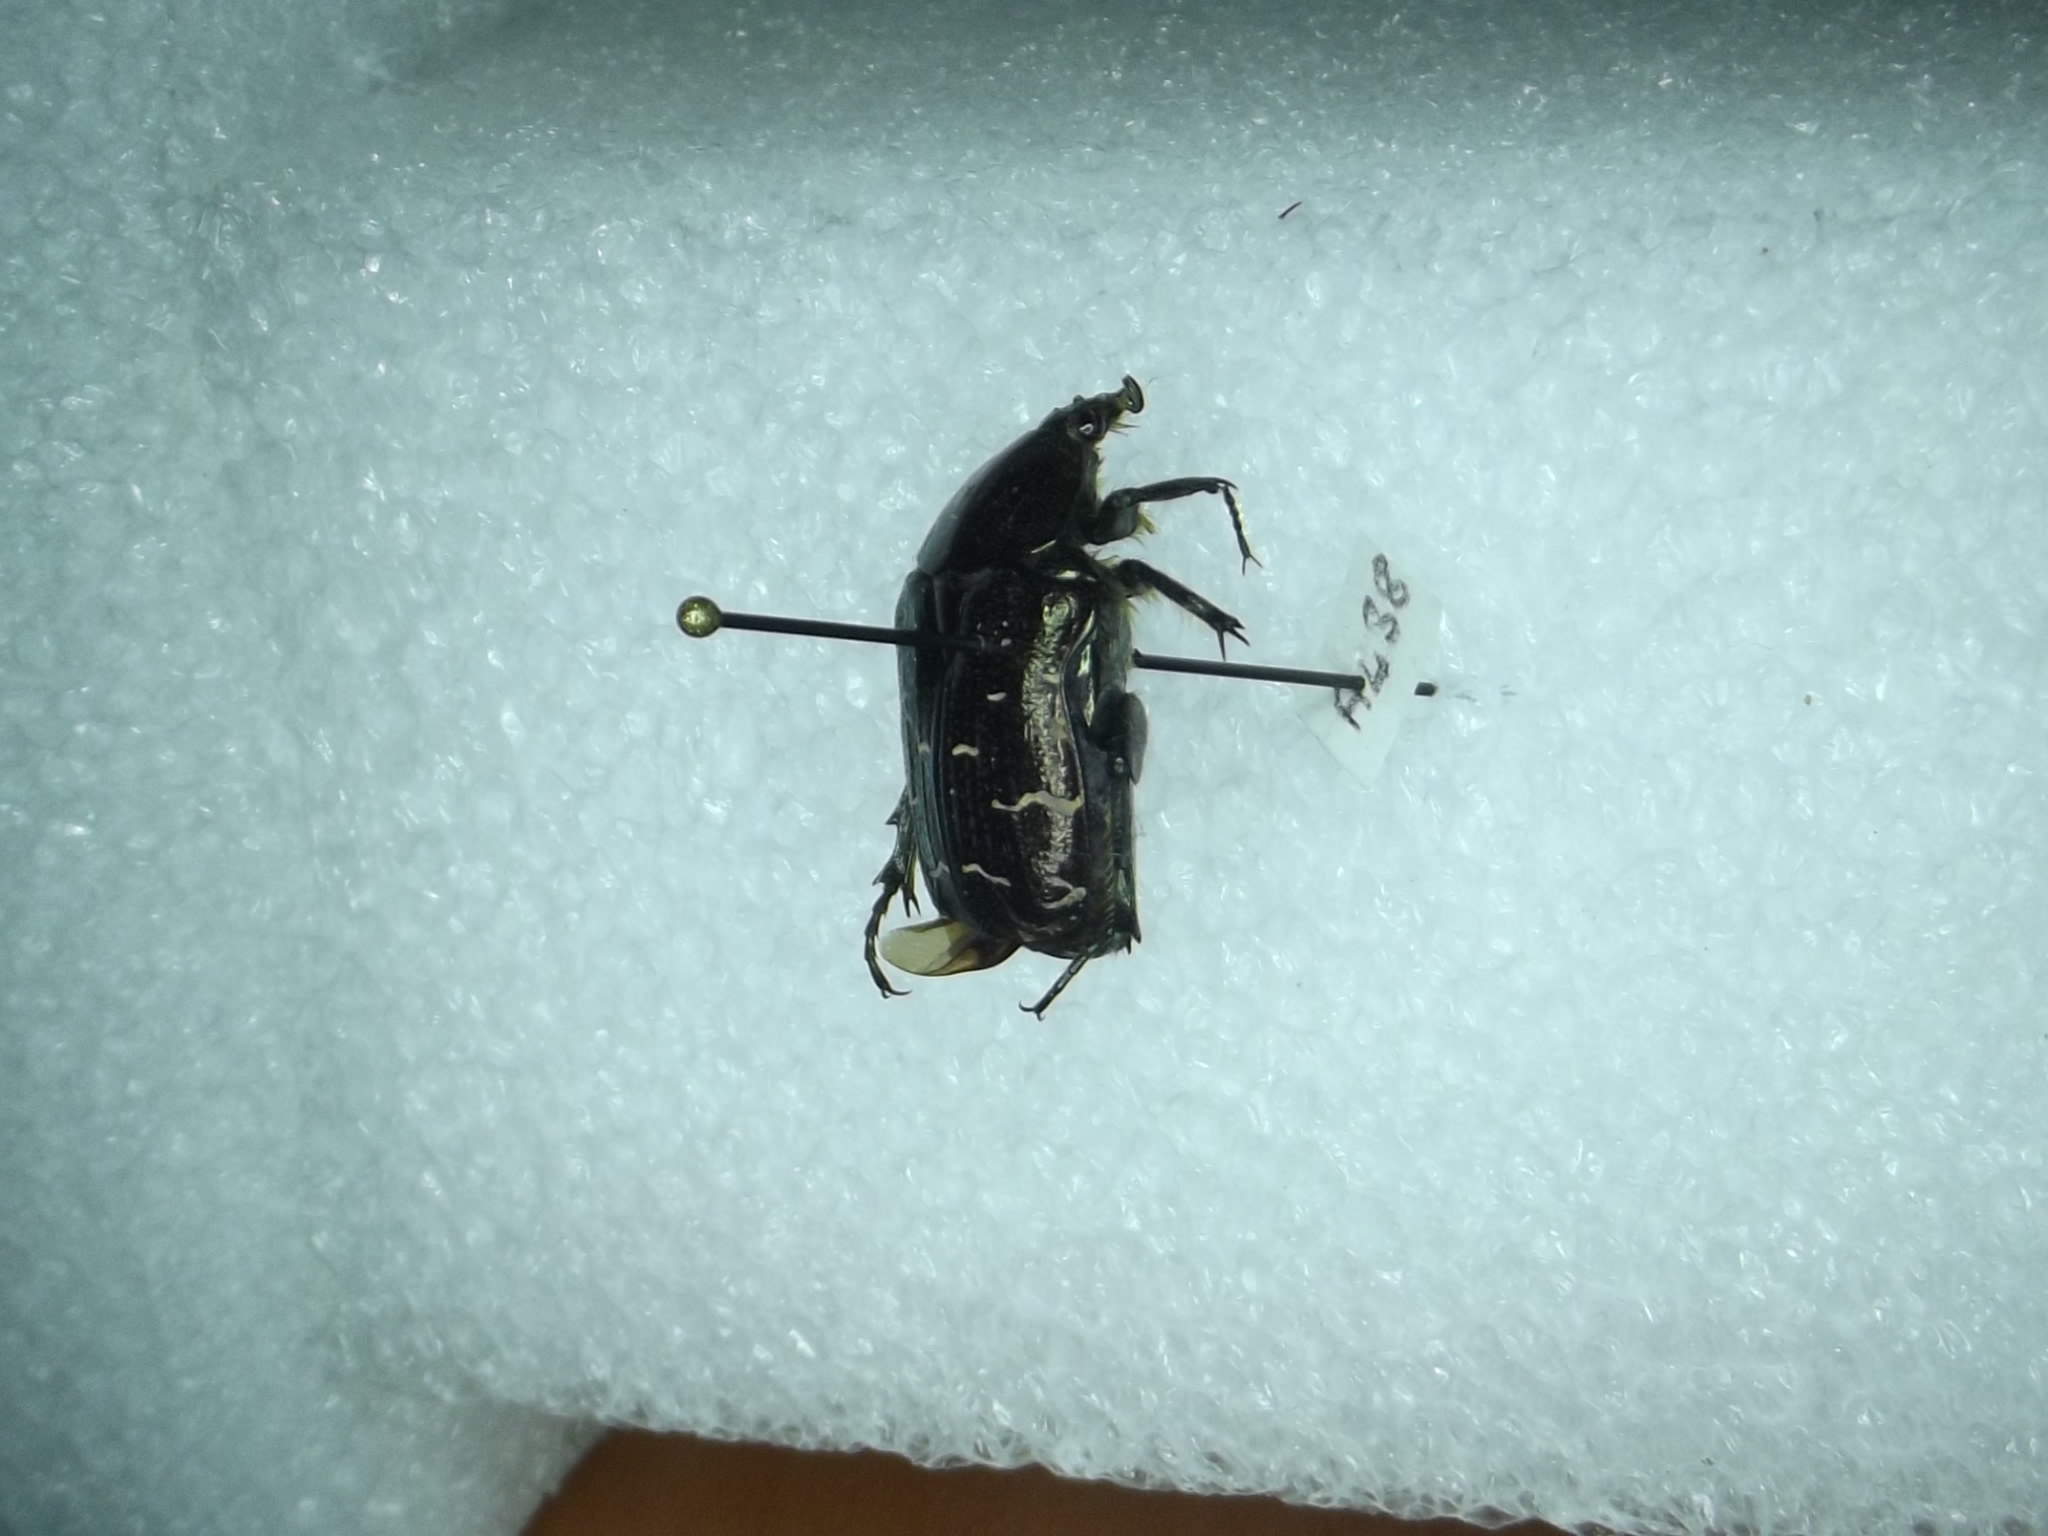Cetonia_kemali: (847, 365, 1263, 1055)
